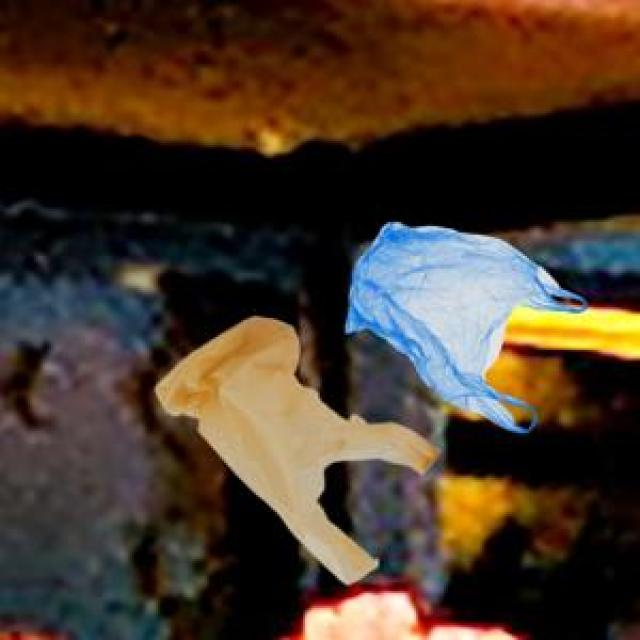litter: (153, 302, 448, 602), (312, 206, 606, 437)
